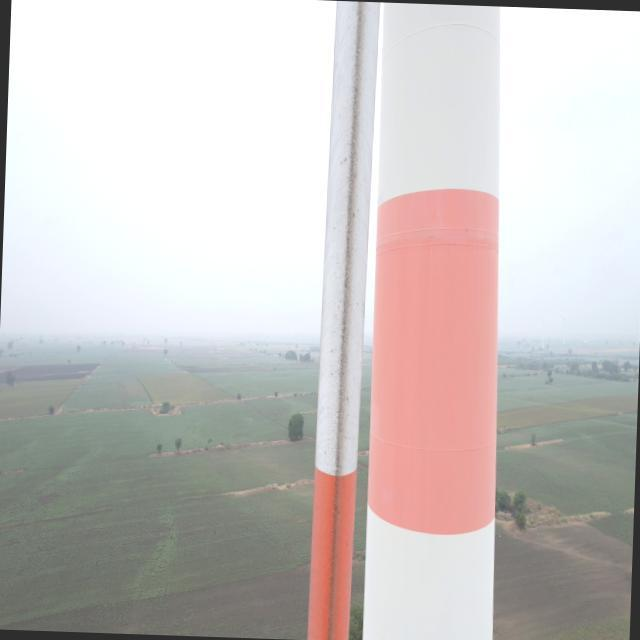Dirt: (321, 0, 373, 640)
